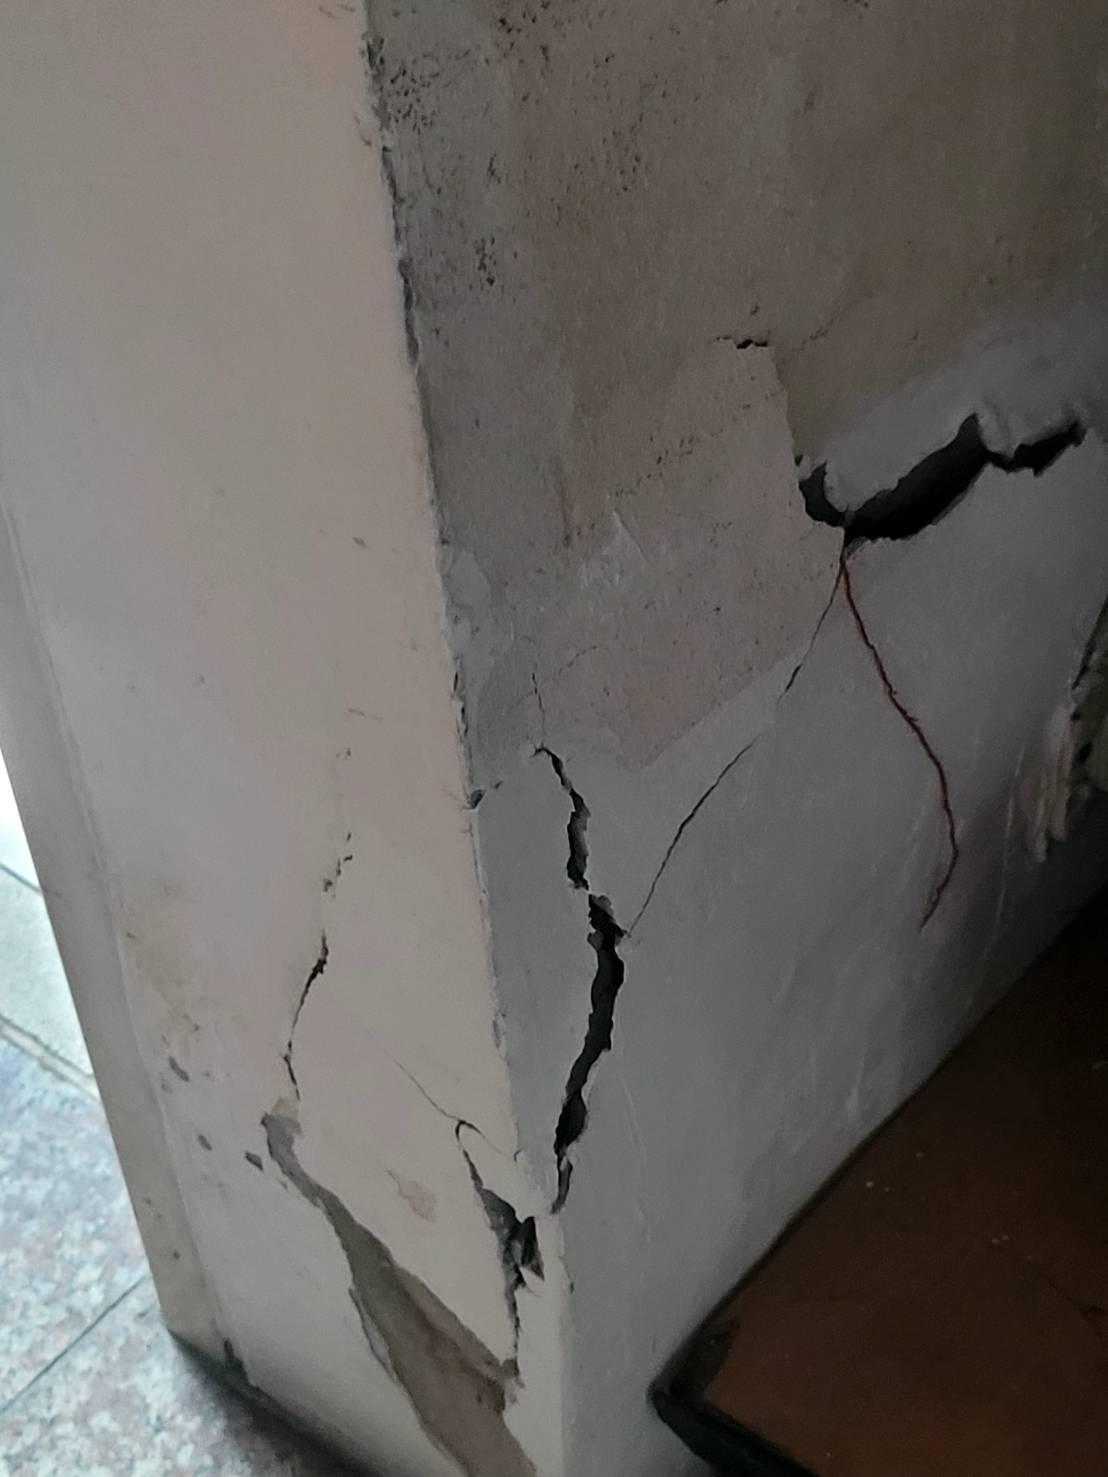High: (237, 315, 1107, 1469)
